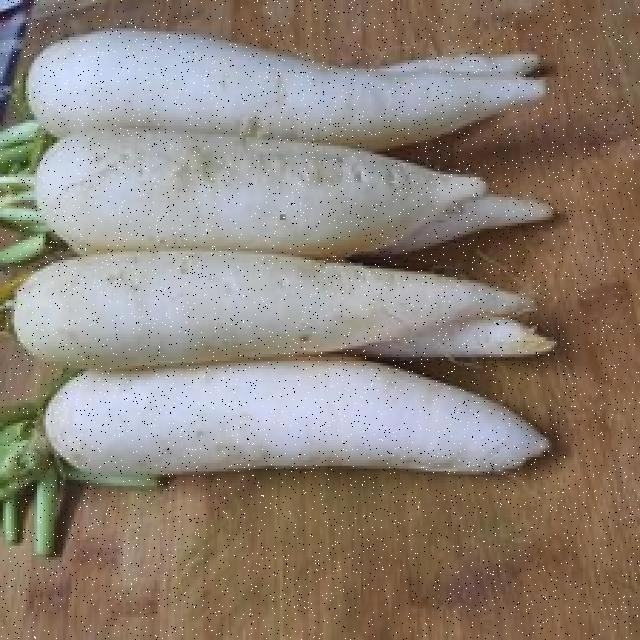Radish: (20, 369, 587, 526), (18, 15, 578, 138), (0, 127, 504, 252), (0, 254, 559, 359)
